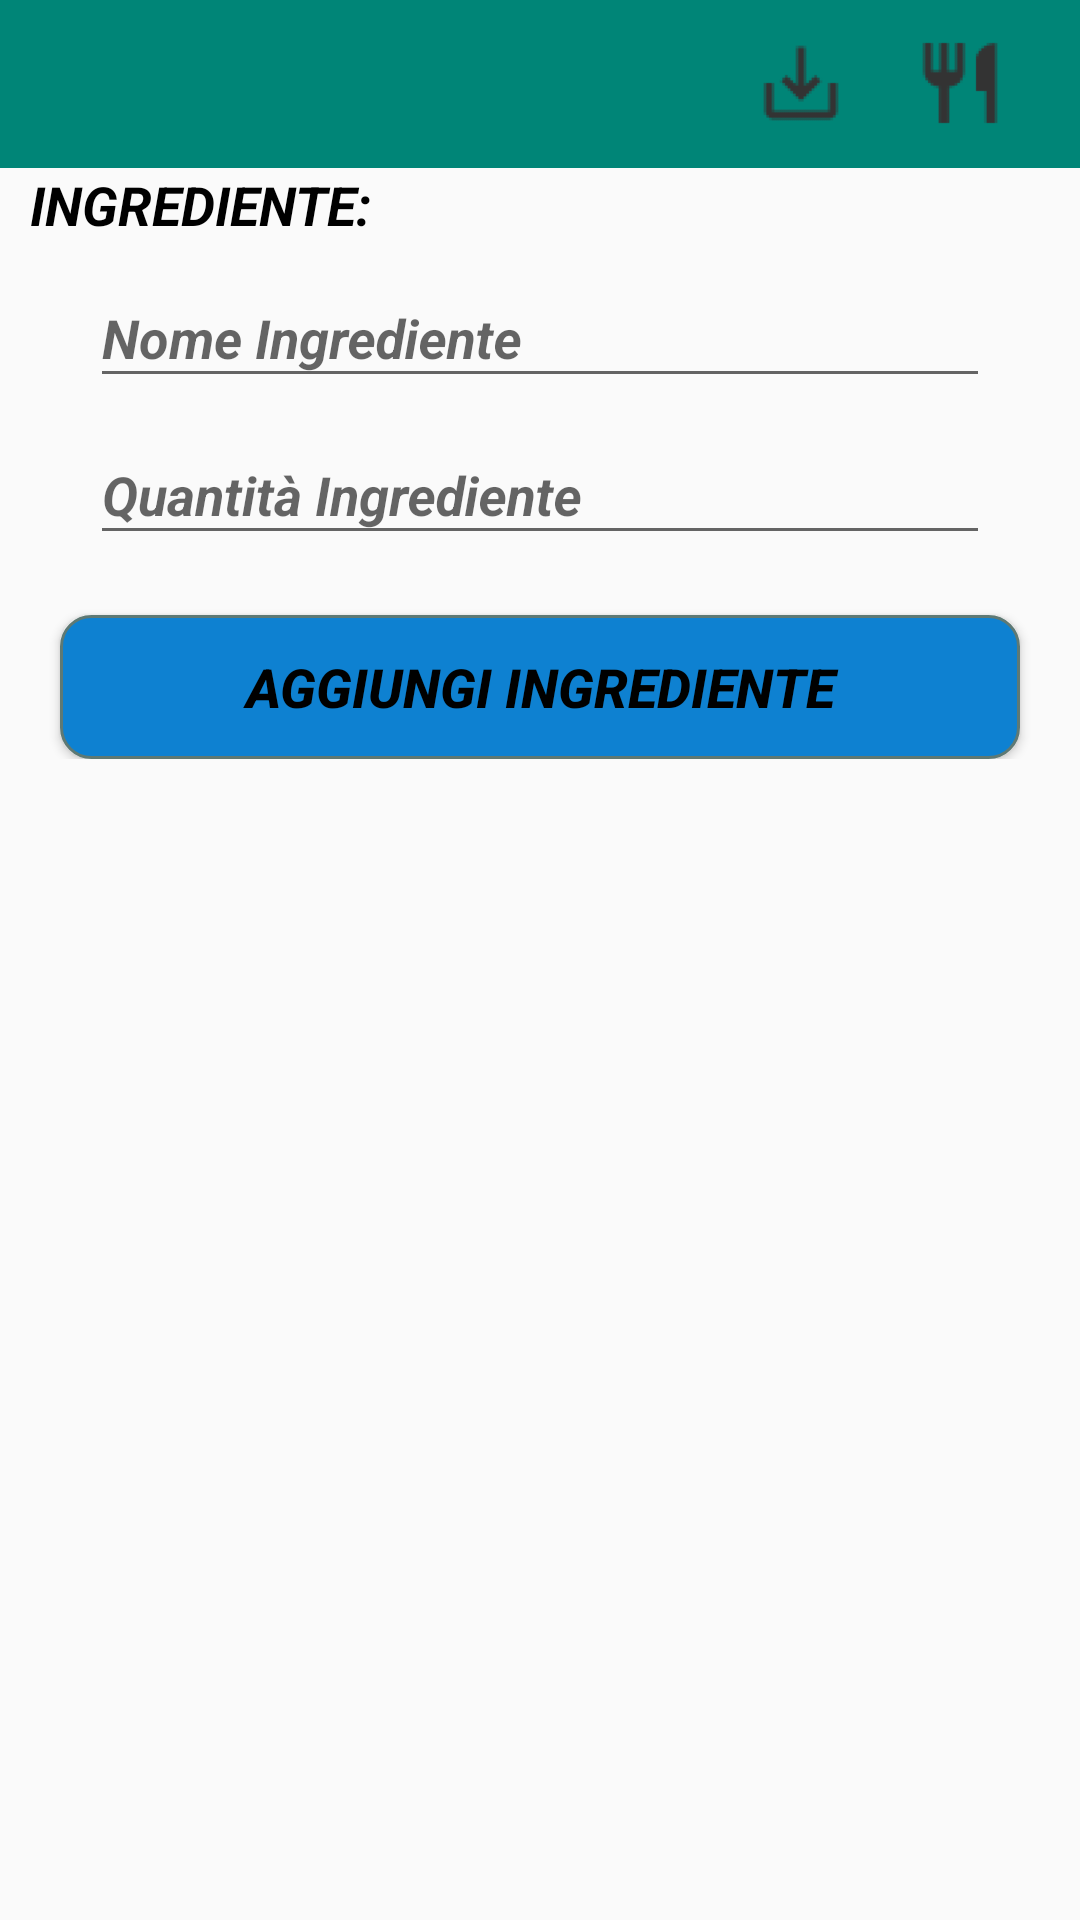

Point at icon controls on the screen. Image size 1080x1920, points as [x,y].
save: [801,83]
